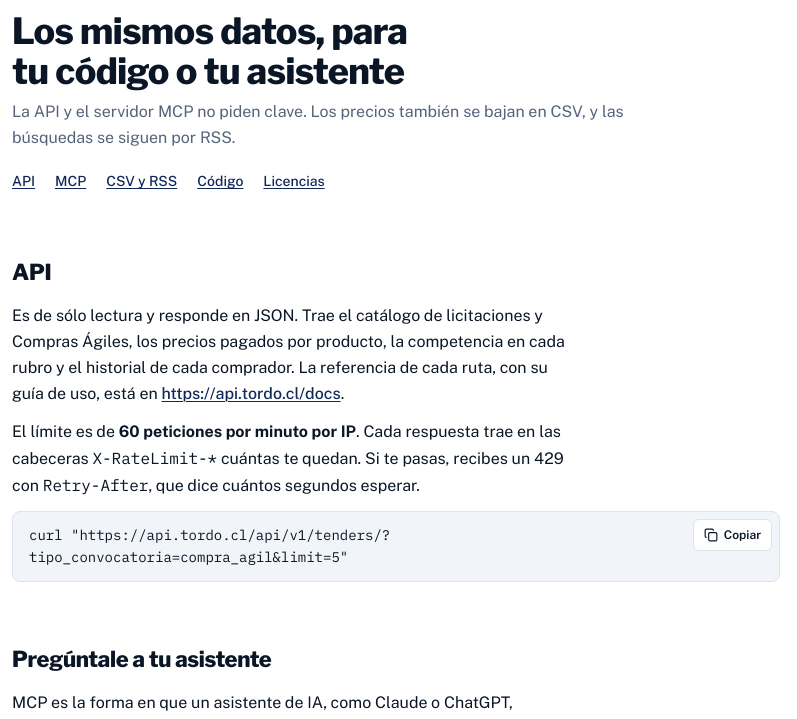
la página /abierto › cada fragmento tiene su botón «Copiar», que copia el texto y dice «Copiado»
The image size is (797, 719).
Click the button with aria-label "Copiar: Ejemplo con curl".
click(732, 535)  # box [693,519,772,551]
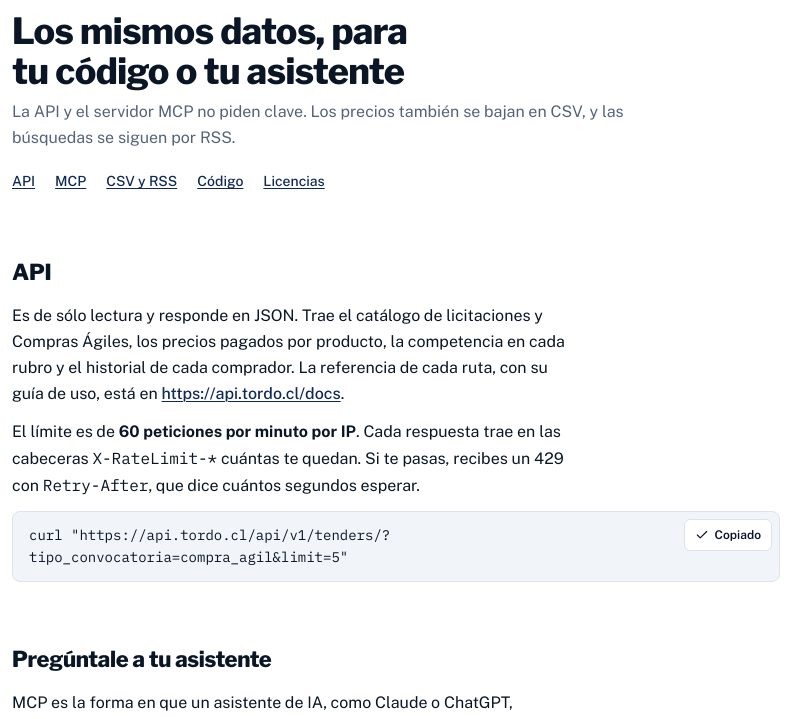
expect the button named "Copiar: Ejemplo con curl" reads "Copiado": met, box [684,519,772,551]
